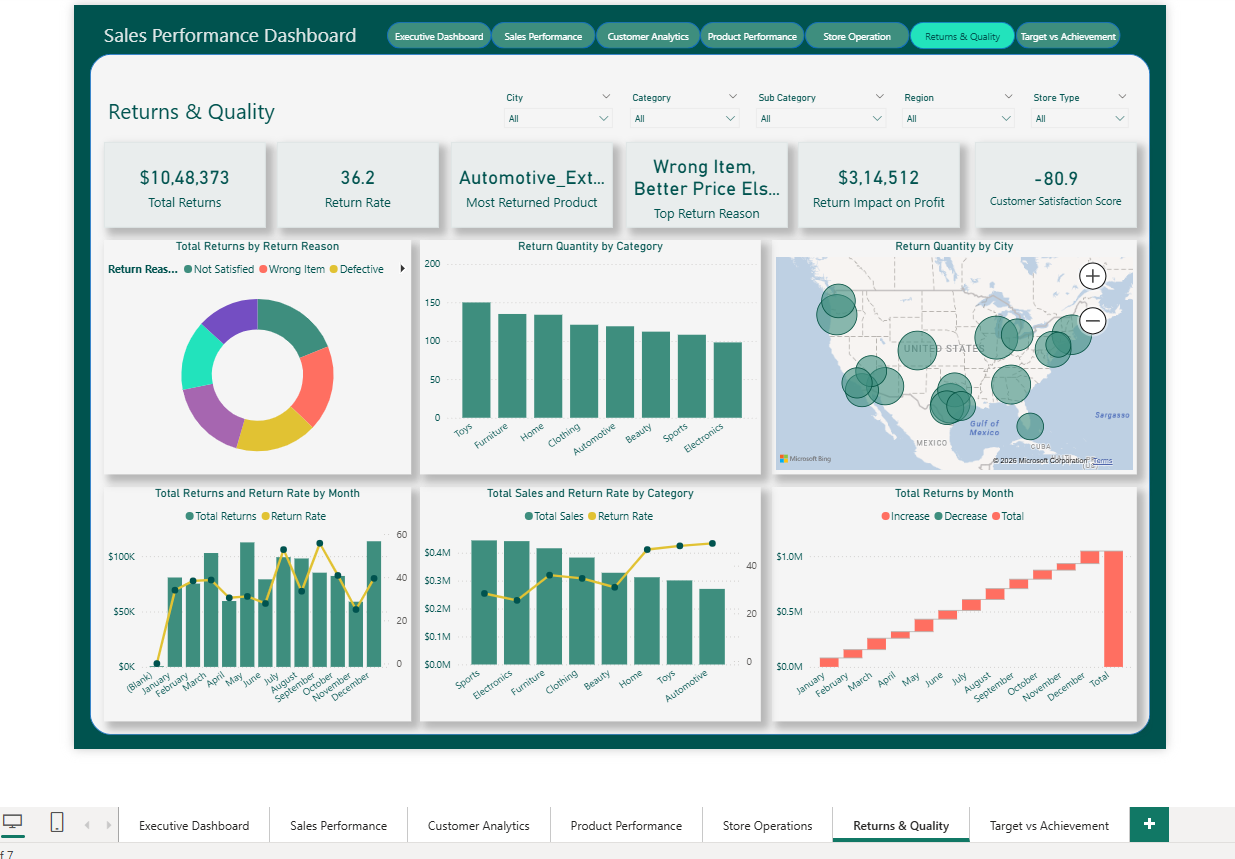

Layout of this report page (visuals, bound fields, positions):
{"tool":"powerbi","page":{"name":"Returns & Quality","canvas":[1365,930],"ordinal":5},"visuals":[{"type":"shape","box":[391.4,21.2,130.6,33.2],"z":0,"group":"g3"},{"type":"shape","box":[19.5,61.8,1325.1,851],"z":0},{"type":"slicer","fields":{"Values":["Customer.City"]},"box":[528,104.2,155.7,57.9],"z":0,"group":"g1"},{"type":"card","title":"Total Sales","fields":{"Values":["All Measures.Total Returns"]},"box":[37.8,171.8,201.8,106.5],"z":0,"group":"g2"},{"type":"shape","box":[522,21.2,130.6,33.2],"z":1000,"group":"g3"},{"type":"group","id":"g1","title":"Group 1","box":[528,104.2,800.6,57.3],"z":1000},{"type":"slicer","fields":{"Values":["Product.Category"]},"box":[685.9,104.2,156.8,57.9],"z":1000,"group":"g1"},{"type":"card","title":"Total Sales","fields":{"Values":["All Measures.Return Rate"]},"box":[253.9,171.8,201.8,106.5],"z":1000,"group":"g2"},{"type":"shape","box":[652.5,21.2,130.6,33.2],"z":2000,"group":"g3"},{"type":"slicer","fields":{"Values":["Store.Region"]},"box":[1025.3,104.2,161.3,57.9],"z":2000,"group":"g1"},{"type":"textbox","box":[37.5,109.3,257.1,52.5],"z":2000},{"type":"card","title":"Total Sales","fields":{"Values":["Customer.Most Returned Product"]},"box":[471.2,171.8,201.8,106.5],"z":2000,"group":"g2"},{"type":"shape","box":[783.1,21.2,130.6,33.2],"z":3000,"group":"g3"},{"type":"slicer","fields":{"Values":["Store.StoreType"]},"box":[1186.6,104.2,142.2,57.9],"z":3000,"group":"g1"},{"type":"group","id":"g2","title":"Group 2","box":[37.8,171.8,1290.8,106.5],"z":3000},{"type":"card","title":"Total Sales","fields":{"Values":["Customer.Top Return Reason"]},"box":[689.8,171.8,201.8,106.5],"z":3000,"group":"g2"},{"type":"shape","box":[37.8,19.5,333.3,36.7],"z":4000},{"type":"shape","box":[913.7,21.2,130.6,33.2],"z":4000,"group":"g3"},{"type":"slicer","fields":{"Values":["Product.SubCategory"]},"box":[842.7,104.2,182.6,57.9],"z":4000,"group":"g1"},{"type":"card","title":"Total Sales","fields":{"Values":["Customer.Return Impact on Profit"]},"box":[905.9,171.8,201.8,106.5],"z":4000,"group":"g2"},{"type":"shape","box":[1045.2,21.2,131.2,33.8],"z":5000,"group":"g3"},{"type":"card","title":"Total Sales","fields":{"Values":["Customer.Customer Satisfaction Score Advanced"]},"box":[1126.8,171.8,201.8,106.5],"z":5000,"group":"g2"},{"type":"lineStackedColumnComboChart","fields":{"Category":["Date.Date.Variation.Date Hierarchy.Month"],"Y":["All Measures.Total Returns"],"Y2":["All Measures.Return Rate"]},"box":[37.8,602.4,383.7,293.2],"z":5000},{"type":"shape","box":[1177.1,21.2,130.6,33.2],"z":6000,"group":"g3"},{"type":"donutChart","fields":{"Category":["Fact_Returns.ReturnReason"],"Y":["All Measures.Total Returns"]},"box":[37.8,294.3,383.7,293.2],"z":6000},{"type":"map","fields":{"Category":["Store.City"],"Size":["All Measures.Return Quantity"]},"box":[872.7,294.3,455.8,293.2],"z":7000},{"type":"waterfallChart","fields":{"Y":["All Measures.Total Returns"],"Category":["Date.Date.Variation.Date Hierarchy.Month"]},"box":[872.7,602.4,455.8,293.2],"z":8000},{"type":"lineStackedColumnComboChart","fields":{"Category":["Product.Category"],"Y":["All Measures.Total Sales"],"Y2":["All Measures.Return Rate"]},"box":[432.9,602.4,426.1,293.2],"z":9000},{"type":"group","id":"g3","title":"Group 3","box":[391.4,21.2,916.3,33.8],"z":9008},{"type":"columnChart","fields":{"Y":["All Measures.Return Quantity"],"Category":["Product.Category"]},"box":[432.9,294.3,426.1,293.2],"z":9009}]}

Visuals, with their boxes on the page's 1365x930 design canvas (x1, y1, x2, y2). These are canvas units, not pixel positions in the 1235x859 screenshot, which may show the page scaled, cropped or inside an application window:
shape: 391 21 522 54
shape: 20 62 1345 913
slicer - Customer.City: 528 104 684 162
"Total Sales" card: 38 172 240 278
shape: 522 21 653 54
"Group 1" group: 528 104 1329 162
slicer - Product.Category: 686 104 843 162
"Total Sales" card: 254 172 456 278
shape: 652 21 783 54
slicer - Store.Region: 1025 104 1187 162
textbox: 38 109 295 162
"Total Sales" card: 471 172 673 278
shape: 783 21 914 54
slicer - Store.StoreType: 1187 104 1329 162
"Group 2" group: 38 172 1329 278
"Total Sales" card: 690 172 892 278
shape: 38 20 371 56
shape: 914 21 1044 54
slicer - Product.SubCategory: 843 104 1025 162
"Total Sales" card: 906 172 1108 278
shape: 1045 21 1176 55
"Total Sales" card: 1127 172 1329 278
lineStackedColumnComboChart - Date.Date.Variation.Date Hierarchy.Month x All Measures.Total Returns: 38 602 422 896
shape: 1177 21 1308 54
donutChart - Fact_Returns.ReturnReason x All Measures.Total Returns: 38 294 422 588
map - Store.City x All Measures.Return Quantity: 873 294 1328 588
waterfallChart - All Measures.Total Returns x Date.Date.Variation.Date Hierarchy.Month: 873 602 1328 896
lineStackedColumnComboChart - Product.Category x All Measures.Total Sales: 433 602 859 896
"Group 3" group: 391 21 1308 55
columnChart - All Measures.Return Quantity x Product.Category: 433 294 859 588
